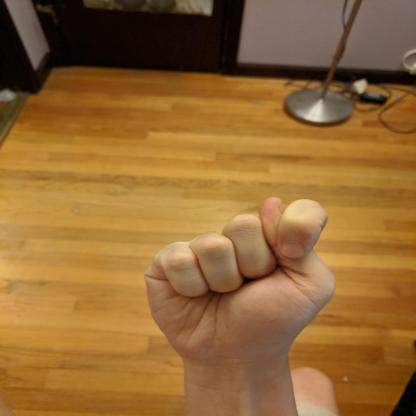T: (143, 197, 336, 364)
